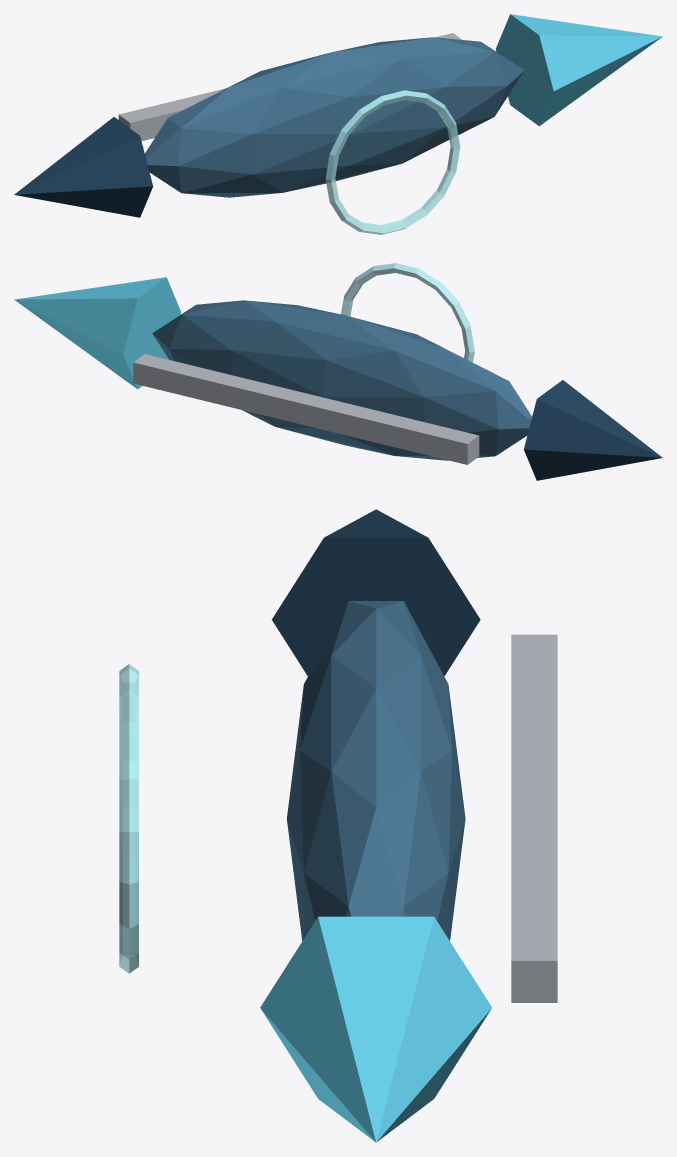
The model's file is 05_skyship_hull.glb.
The picture shows the model from 3 angles, top to bottom: view 1: azimuth 30°, elevation 25°; view 2: azimuth 150°, elevation 25°; view 3: azimuth 270°, elevation 25°; orthographic projection. The views are drawn at different scales.
Visible parts, largest first — view 1: hull_low_poly, bow_upgrade, stern_fin, size_class_ring, keel_plate; view 2: hull_low_poly, keel_plate, bow_upgrade, stern_fin, size_class_ring; view 3: hull_low_poly, bow_upgrade, keel_plate, stern_fin, size_class_ring.
Boxes of the visible parts, <box> form: hull_low_poly: <box>145,37,524,197</box>; bow_upgrade: <box>496,14,662,126</box>; stern_fin: <box>14,117,153,217</box>; size_class_ring: <box>325,90,460,234</box>; keel_plate: <box>118,33,461,140</box>; hull_low_poly: <box>152,300,531,460</box>; keel_plate: <box>133,354,479,464</box>; bow_upgrade: <box>14,277,180,389</box>; stern_fin: <box>524,380,662,480</box>; size_class_ring: <box>341,263,474,362</box>; hull_low_poly: <box>287,601,465,940</box>; bow_upgrade: <box>260,916,491,1142</box>; keel_plate: <box>511,634,557,1002</box>; stern_fin: <box>271,509,480,675</box>; size_class_ring: <box>119,664,138,973</box>.
Bounding box in the file's own units: 2.84 × 0.5806 × 0.8308.
